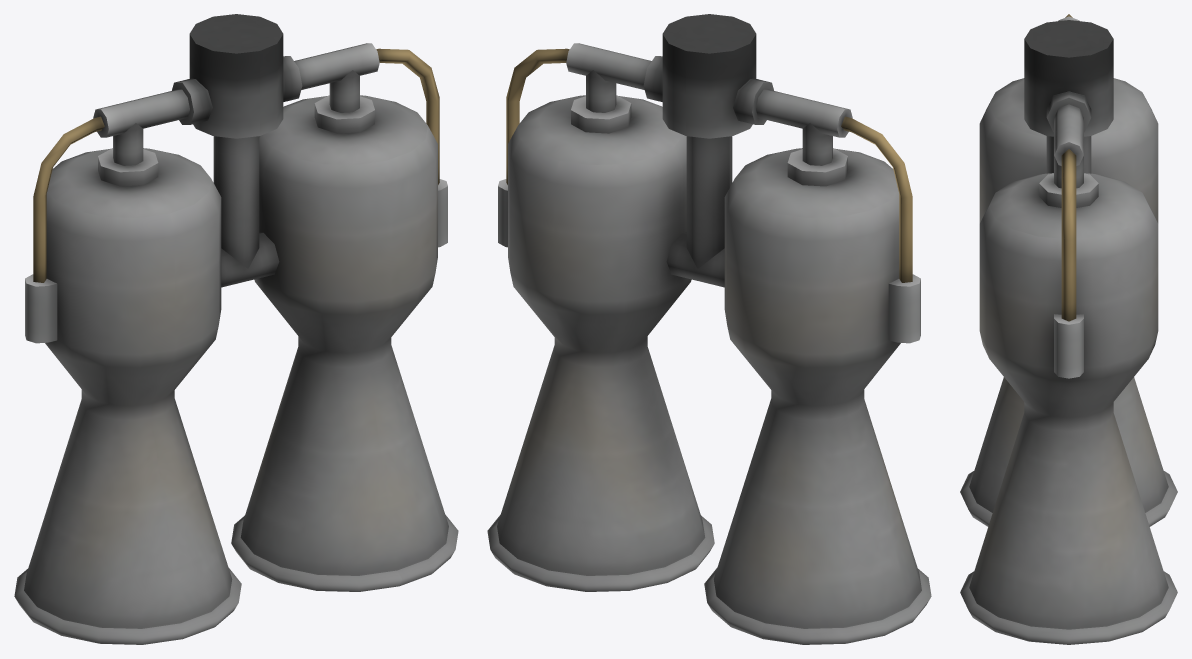
Rendered from Arrow_Engine_1_1_Nozzle.obj.
3 views of the same model, side by side, from view 1: azimuth 30°, elevation 25°; view 2: azimuth 150°, elevation 25°; view 3: azimuth 270°, elevation 25° (orthographic). The views are drawn at different scales.
Parts seen in each view (by area): view 1: Arrow_Engine_1_1_Nozzle; view 2: Arrow_Engine_1_1_Nozzle; view 3: Arrow_Engine_1_1_Nozzle.
Part boxes in pixels (x1,y1,x2,y2): Arrow_Engine_1_1_Nozzle: (14, 14, 458, 644); Arrow_Engine_1_1_Nozzle: (487, 14, 931, 644); Arrow_Engine_1_1_Nozzle: (960, 14, 1177, 644).
Bounding box in the file's own units: 0.3875 × 0.475 × 0.1832.
